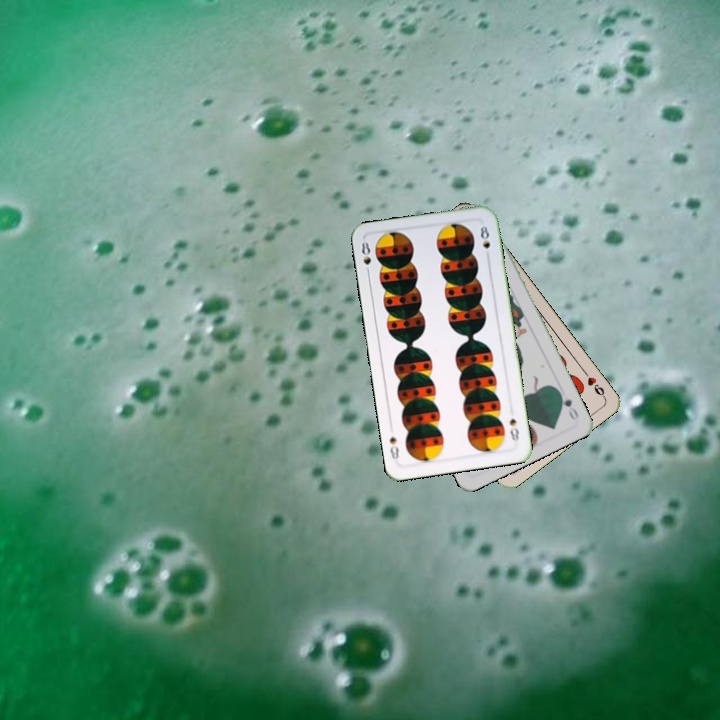GO: (554, 386, 581, 423)
H9: (578, 366, 608, 400)
S8: (357, 237, 375, 278), (505, 414, 521, 443)
